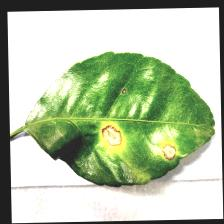greening: (88, 115, 183, 173)
